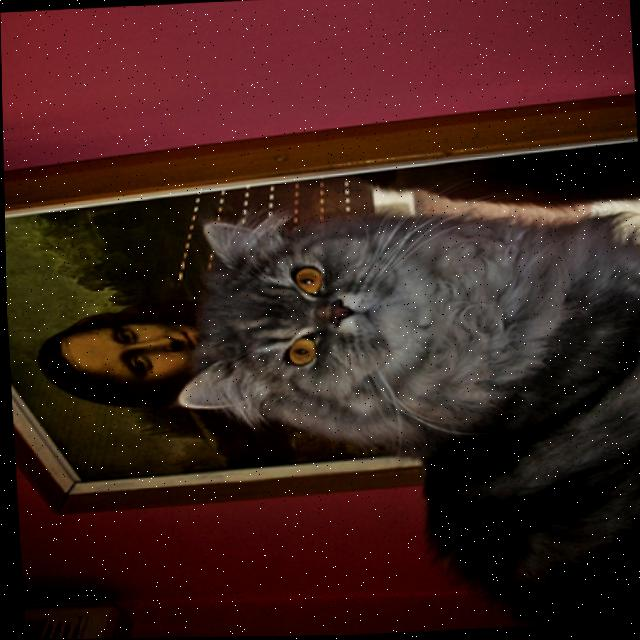Persian: (159, 195, 640, 638)
